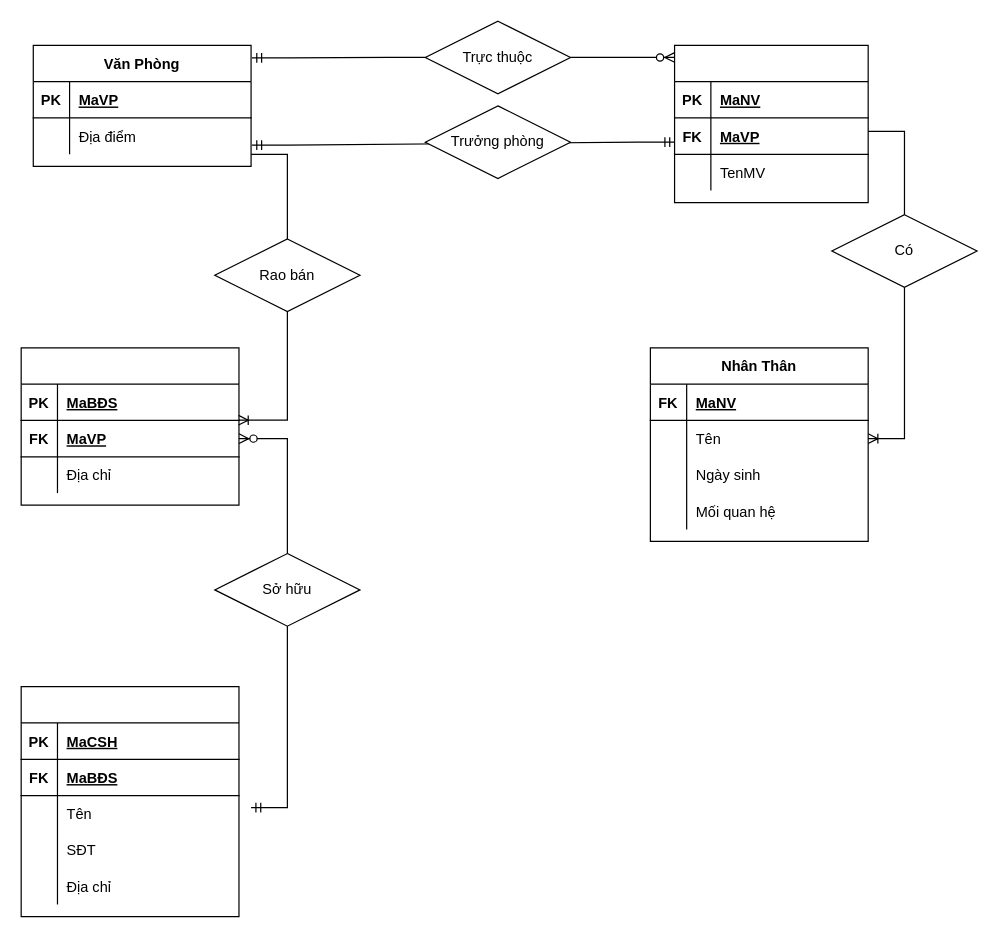
Image size: 998x938. Some labels were removed from this diagram. The box of each missing label's shape, as (x1, y1, x2, y2) in pixels:
Bất động sản: (20, 347, 239, 505)
Chủ sở hữu: (20, 685, 239, 917)
Nhân Viên: (673, 44, 868, 203)
